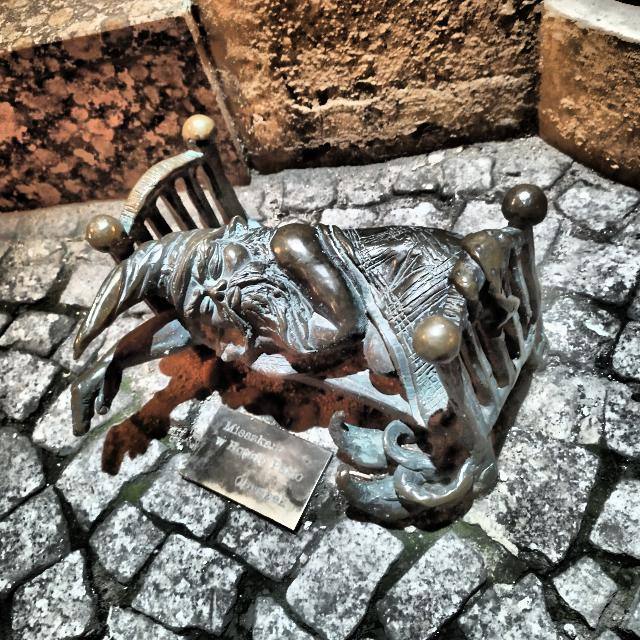Chrapek: (71, 115, 548, 521)
